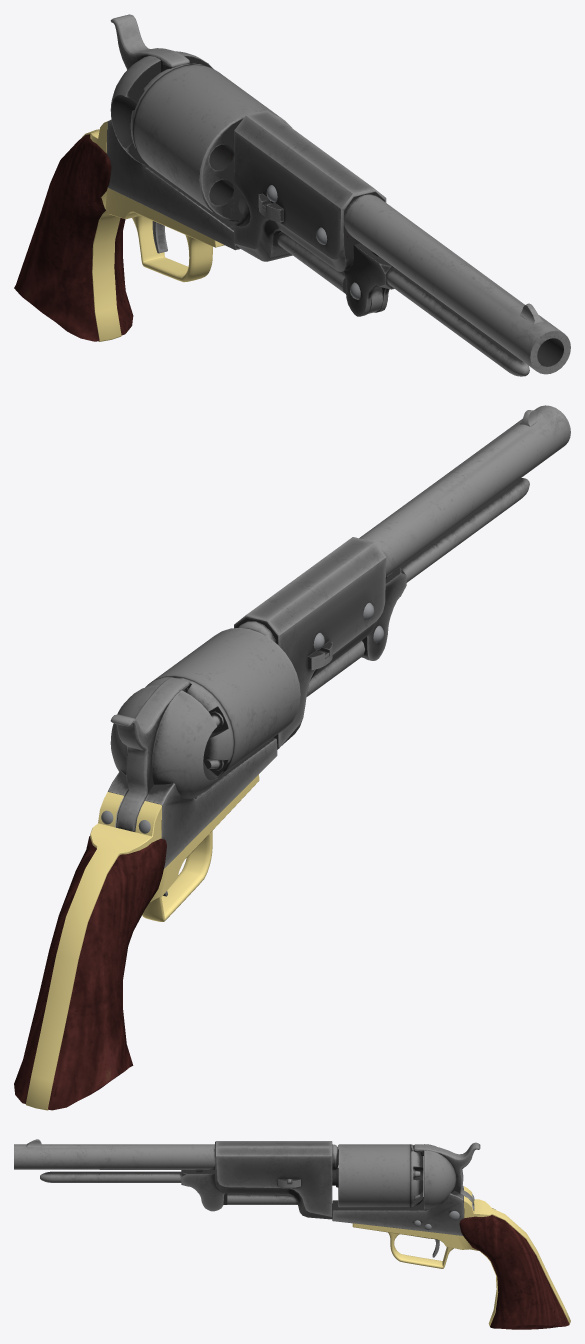
File: Tabanca.fbx
The picture shows the model from 3 angles, top to bottom: view 1: azimuth 30°, elevation 25°; view 2: azimuth 150°, elevation 25°; view 3: azimuth 270°, elevation 25°; orthographic projection. The views are drawn at different scales.
Visible parts, largest first — view 1: Tabanca; view 2: Tabanca; view 3: Tabanca.
Part boxes in pixels (x1=…): Tabanca: x1=14, y1=14, x2=570, y2=376; Tabanca: x1=14, y1=405, x2=570, y2=1110; Tabanca: x1=14, y1=1139, x2=570, y2=1329.
Bounding box in the file's own units: 0.0451 × 0.1435 × 0.39.
Materials: 1 (1 with a texture image).
